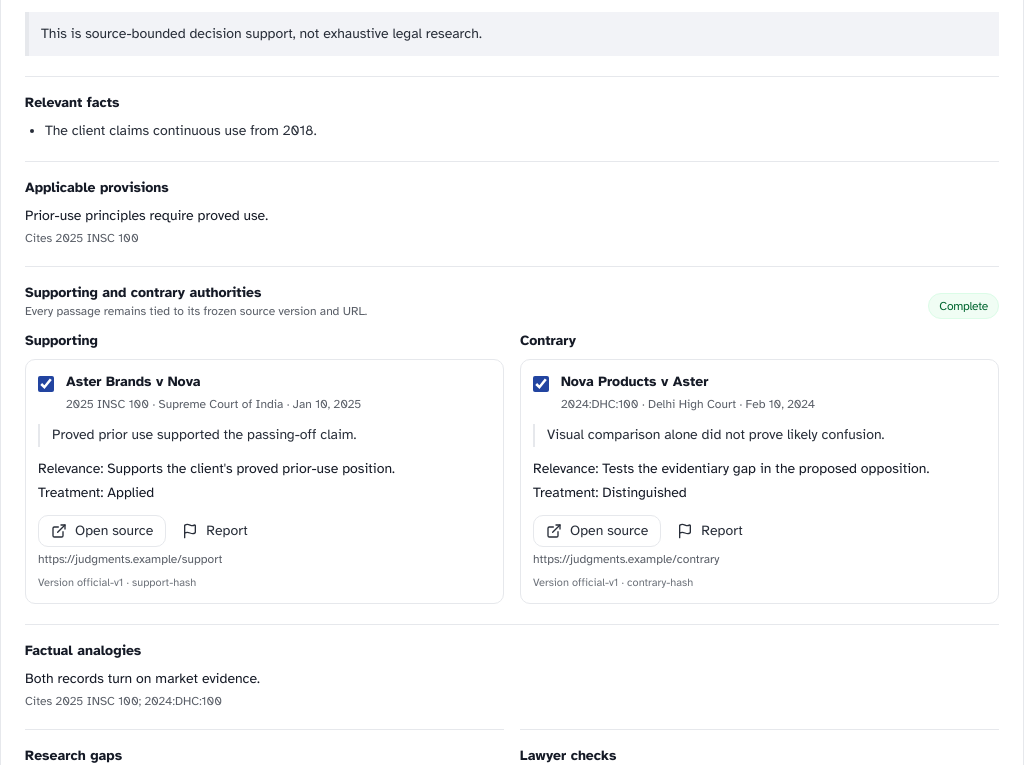
IntelligentReviewsPage › requires completeness before finalization and preserves lawyer selection
(page scrolled)
Expected: the heading "Supporting and contrary authorities" is shown, [25,284,261,301]
What coordinates should you click on to do the following:
click the checkbox labelled "Nova Products v Aster"
I would click on:
 (541, 384)
Its box is [533,376,549,392].
(page scrolled)
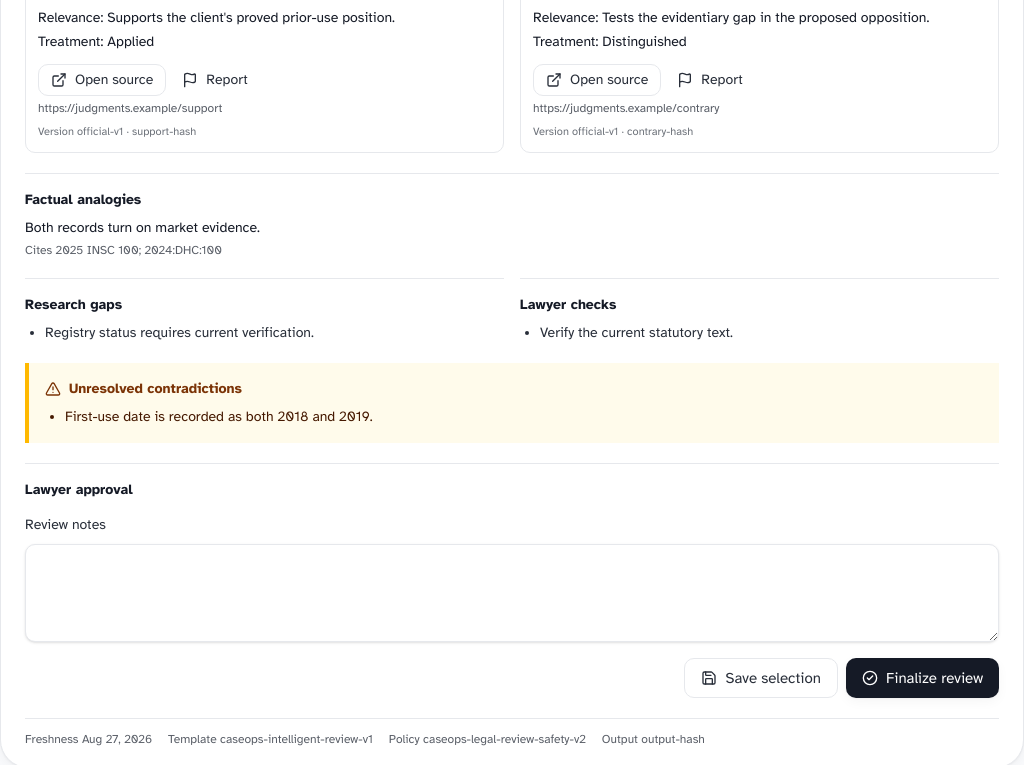
What coordinates should you click on to do the following:
click the button "Save selection"
I would click on:
 (761, 678)
Its box is [684,658,838,698].
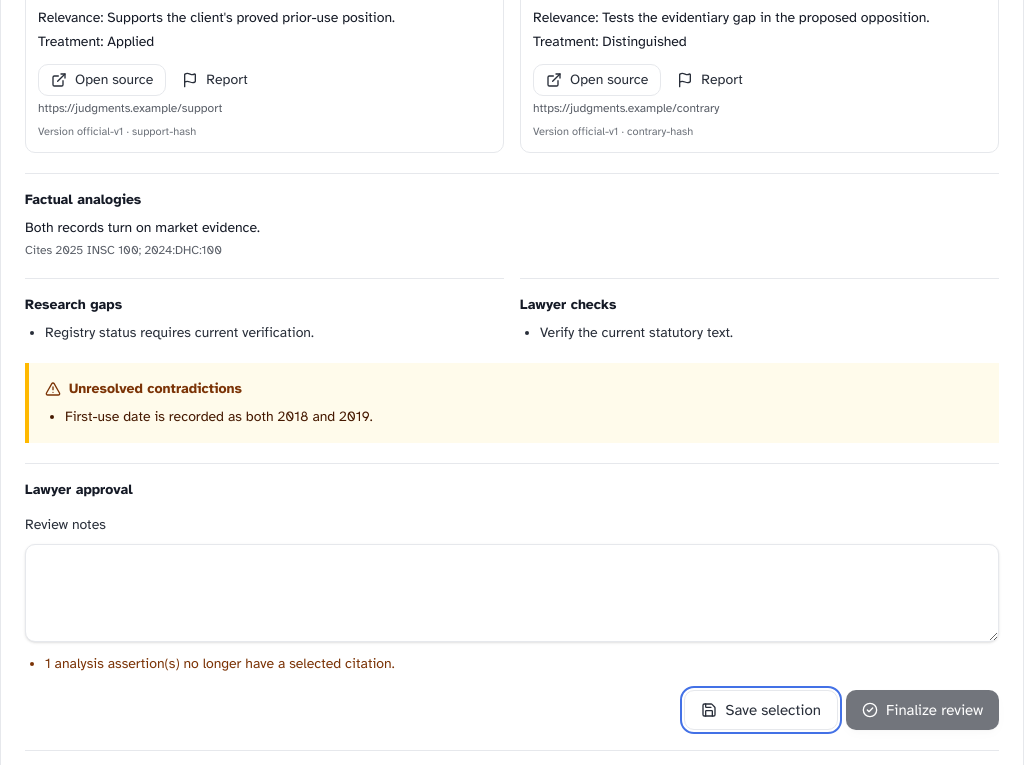
Expected: the list item "1 analysis assertion(s) no longer have a selected citation." is shown, [45,655,395,672]
Expected: the button "Finalize review" is disabled, [846,690,999,730]
